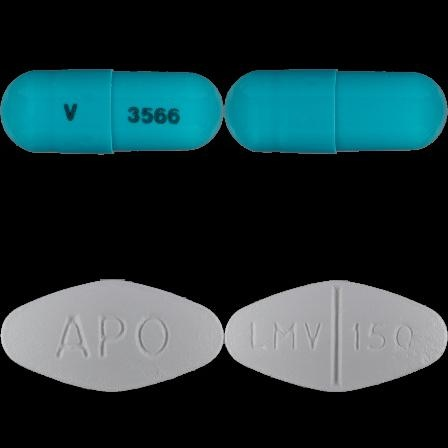53808-0841: (0, 0, 224, 224)
